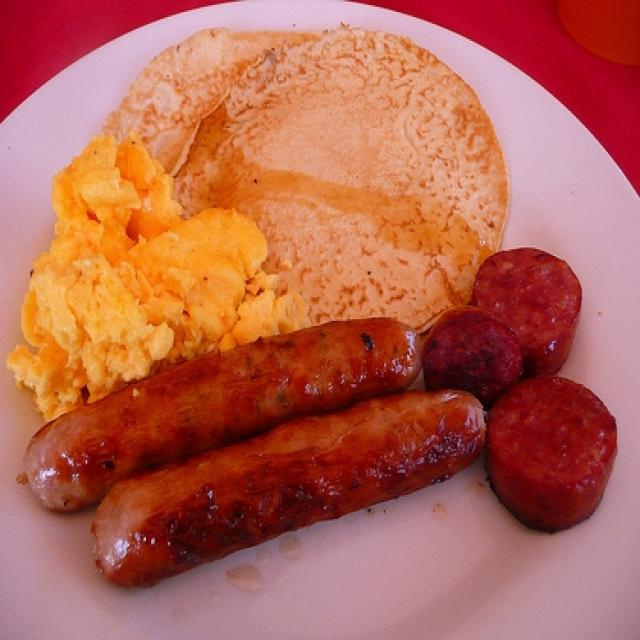鸡蛋料理: (30, 24, 588, 572)
